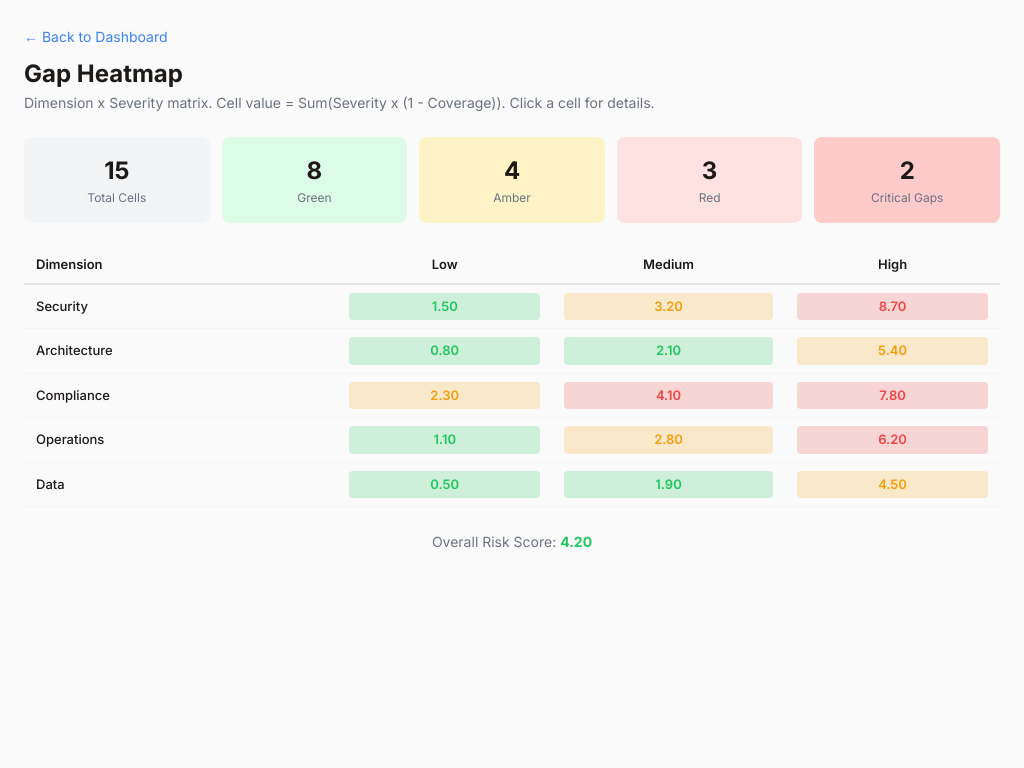
Scenario: HeatmapPage › Cell Interaction › shows drilldown panel with question details
Check: the text "Security" is shown, box x1=24 y1=284 x2=338 y2=328
Note: Click on Security High cell
Click the button "8.70": (893, 306) x1=797 y1=292 x2=988 y2=320
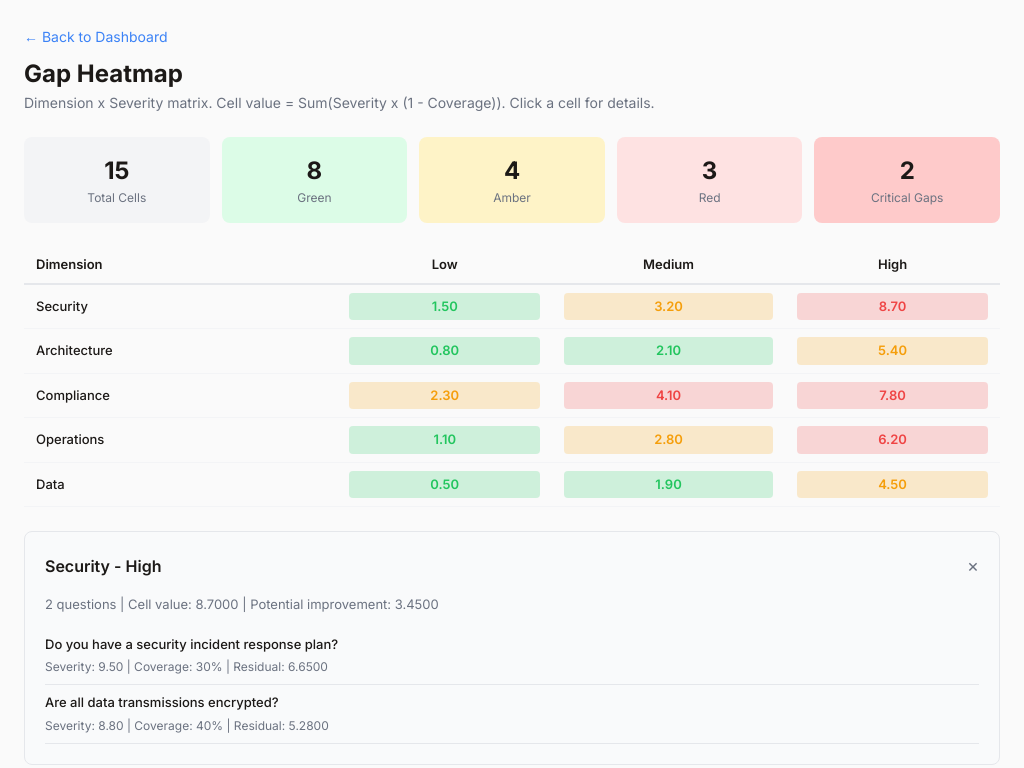
Check: the heading "Security - High" is shown, box x1=45 y1=554 x2=162 y2=578
Check: the text "2 questions | Cell value: 8.7000 | Potential improvement: 3.4500" is shown, box x1=45 y1=596 x2=439 y2=612
Check: the text "Do you have a security incident response plan?" is shown, box x1=45 y1=636 x2=338 y2=652
